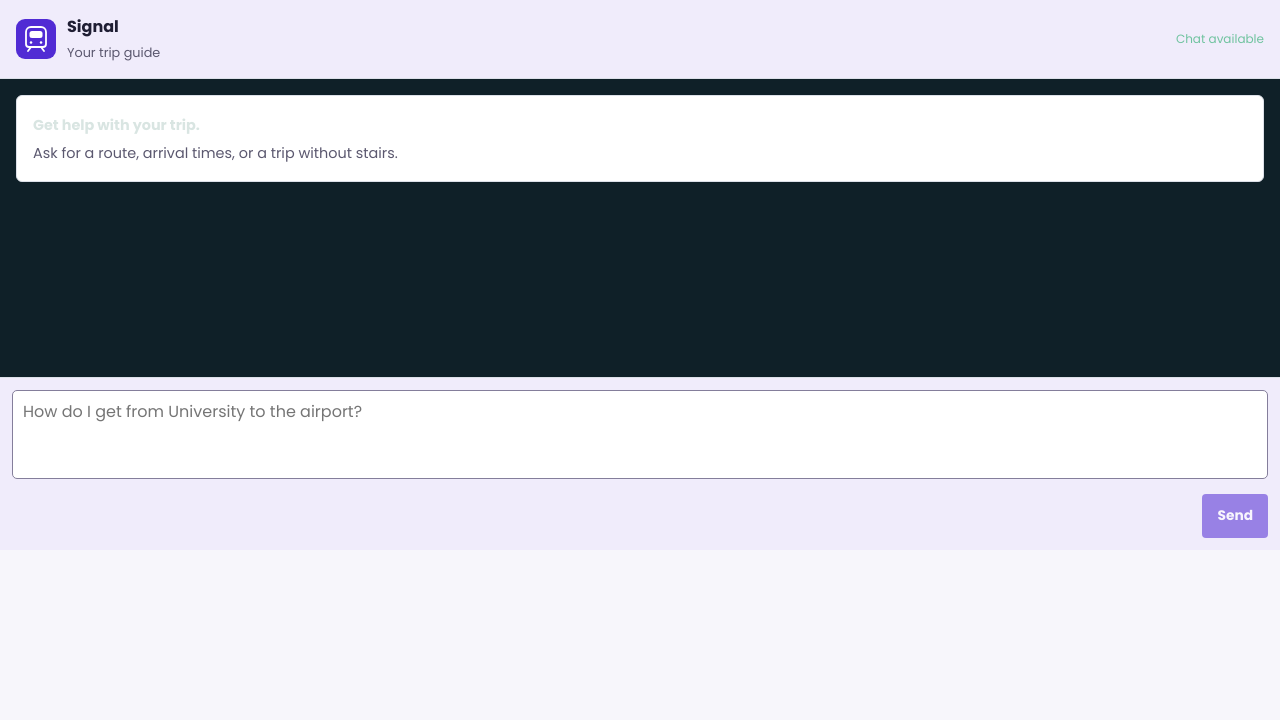
keeps assistant updates inside the conversation scroller
Type "Plan a trip" into the text box with placeholder "How do I get from University to the airport?".
click(640, 434); type("Plan a trip")  # box [12,390,1268,479]
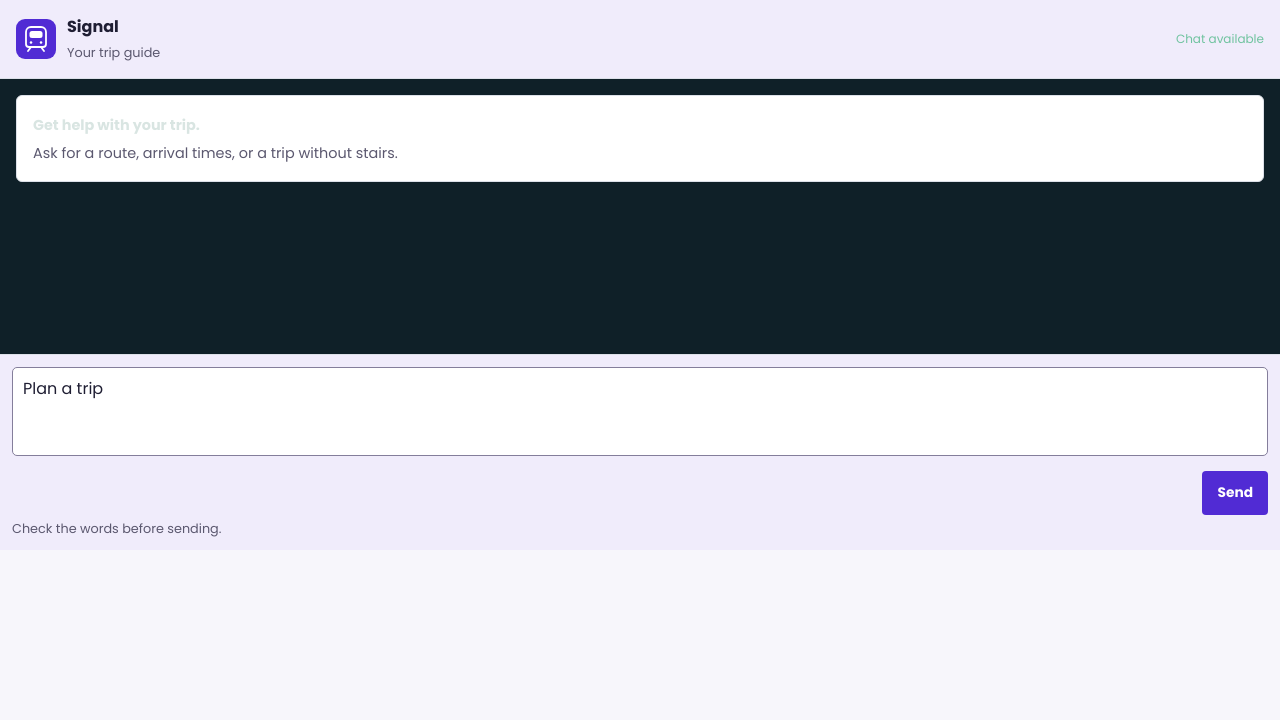
Click the button "Send".
click(1235, 493)  # box [1202,471,1268,515]
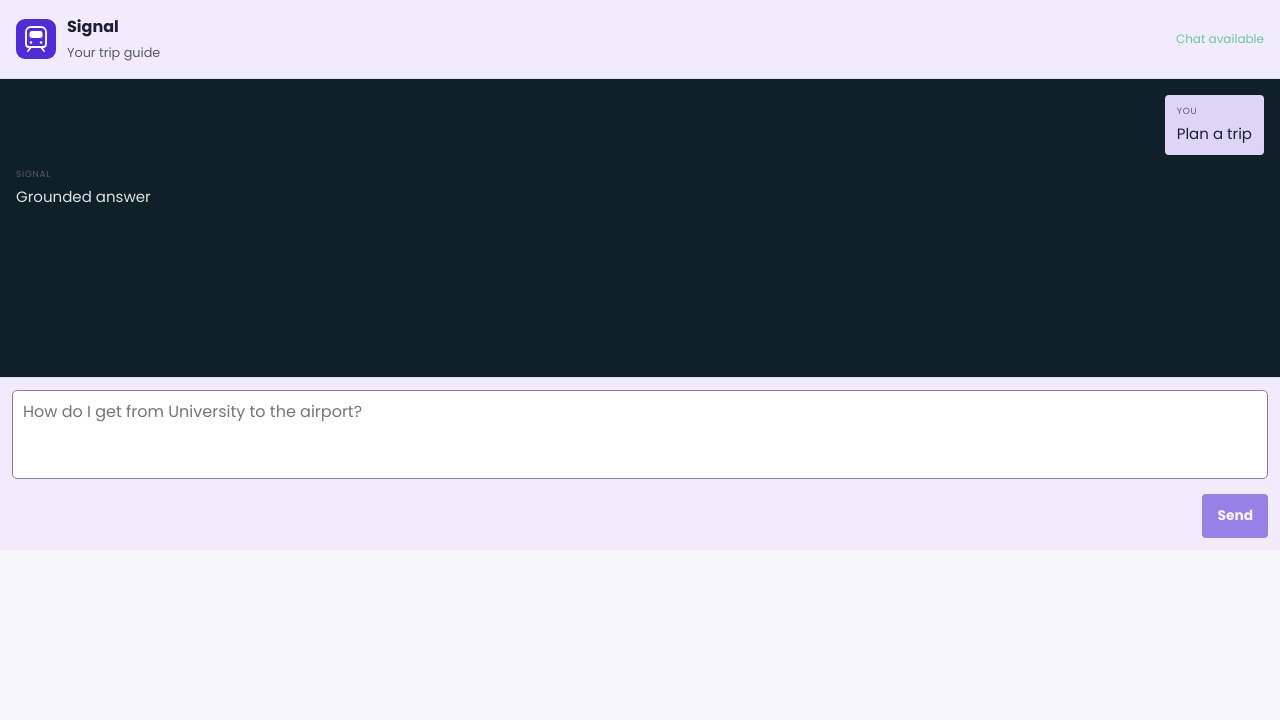
Check: the text "Grounded answer" is shown, box [16,185,151,209]
